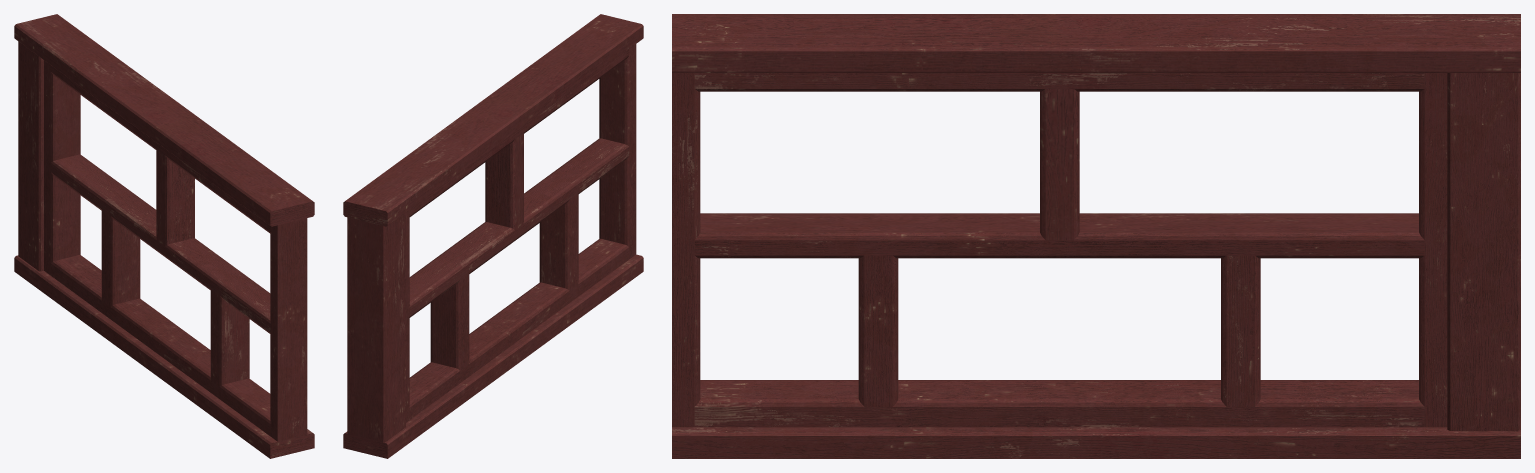
The model's file is SM_Fence01a.fbx.
3 views of the same model, side by side, from view 1: azimuth 30°, elevation 25°; view 2: azimuth 150°, elevation 25°; view 3: azimuth 270°, elevation 25° (orthographic). The views are drawn at different scales.
Parts seen in each view (by area): view 1: SM_Fence01a; view 2: SM_Fence01a; view 3: SM_Fence01a.
Boxes of the visible parts, x1,y1,x2,y2 form: SM_Fence01a: (14, 14, 314, 458); SM_Fence01a: (343, 14, 643, 458); SM_Fence01a: (672, 14, 1520, 458).
Bounding box in the file's own units: 15 × 80 × 150.
